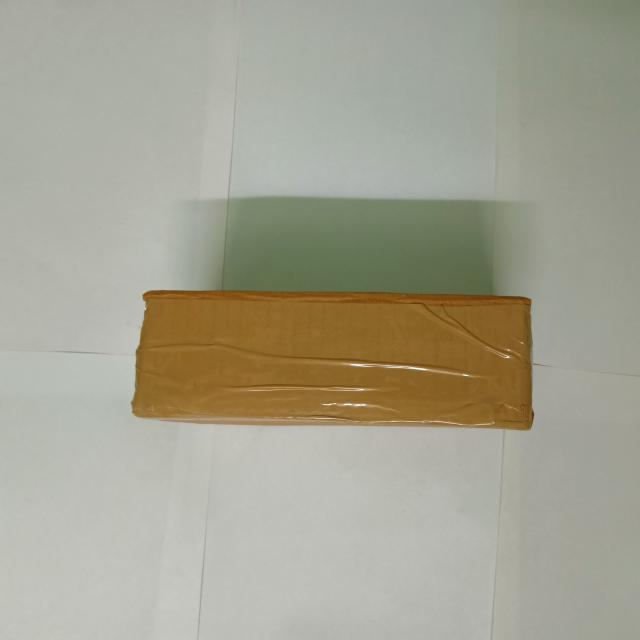box: (135, 287, 535, 436)
